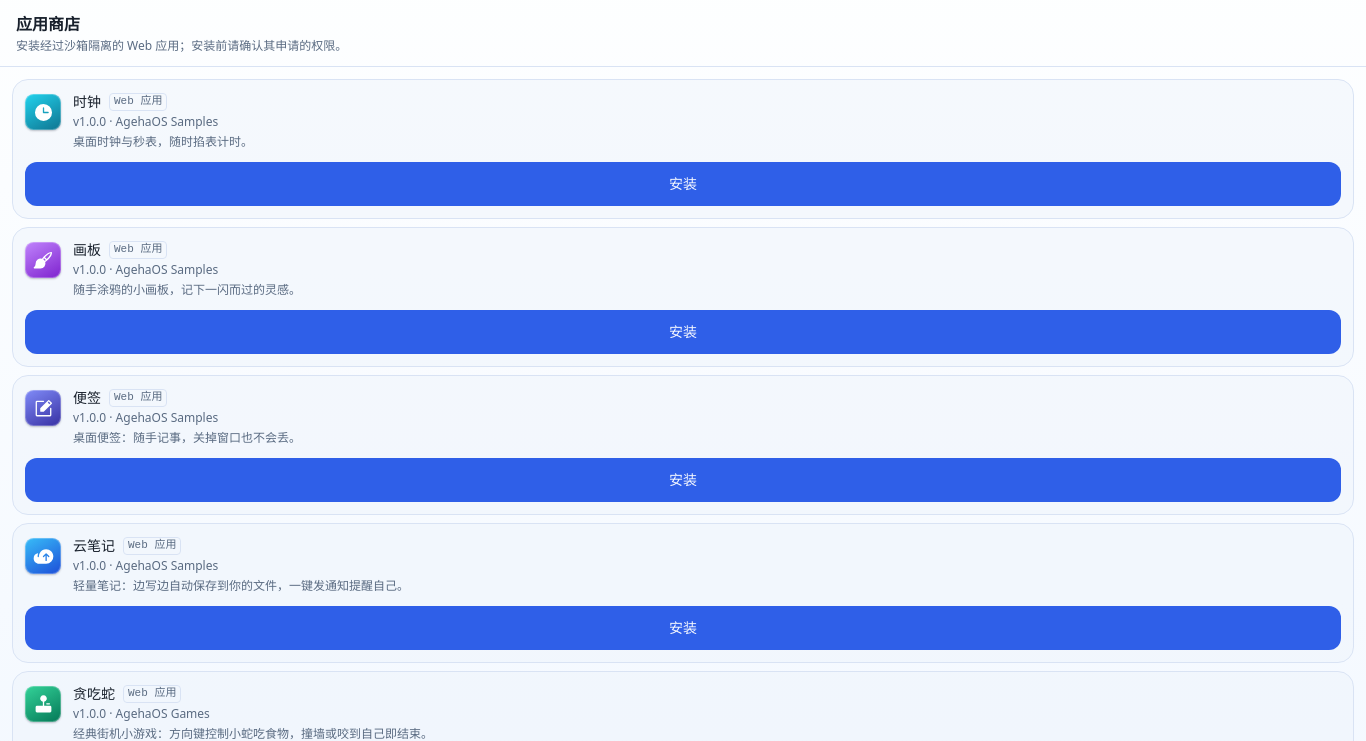
Test: StoreApp 窄容器（M3-4） › 窄容器：安装确认流可用（安装 → 允许并安装 → 已安装），卸载键 44×44
Click the button "安装" below "桌面时钟与秒表，随时掐表计时。".
click(683, 184)  # box [25,162,1341,206]
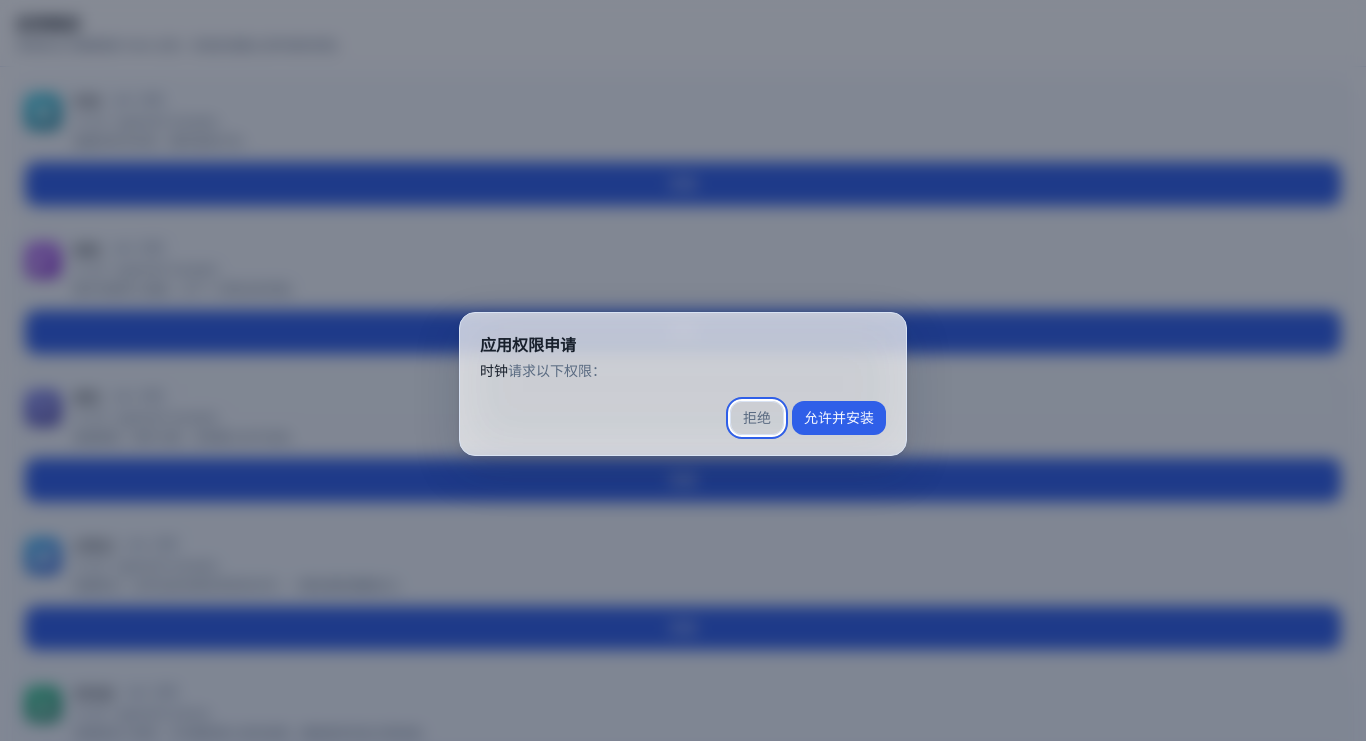
Click the button "允许并安装".
click(839, 418)  # box [792,401,886,435]
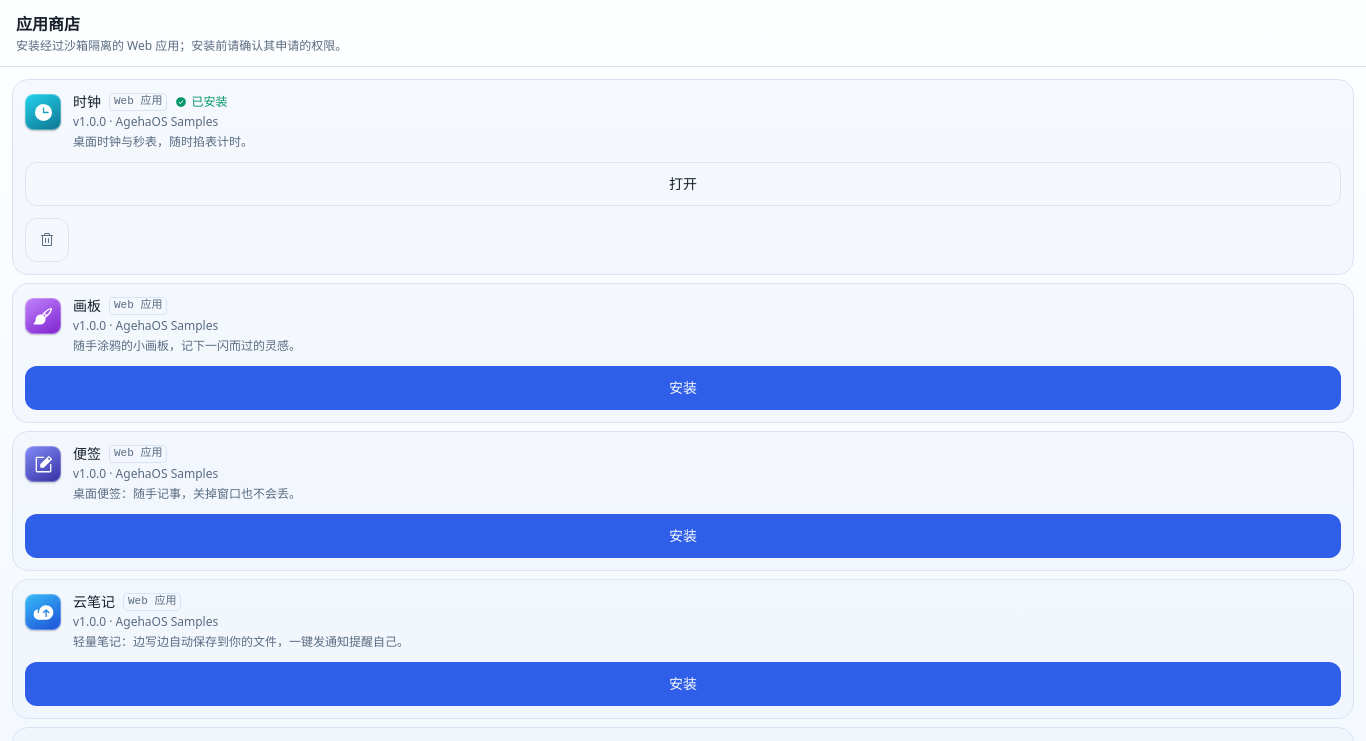
Now the text "已安装" is shown, box [175,94,227,110]
